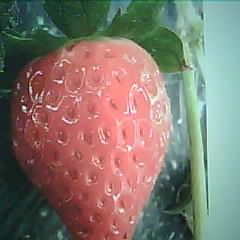straw-ripe: (8, 38, 172, 240)
